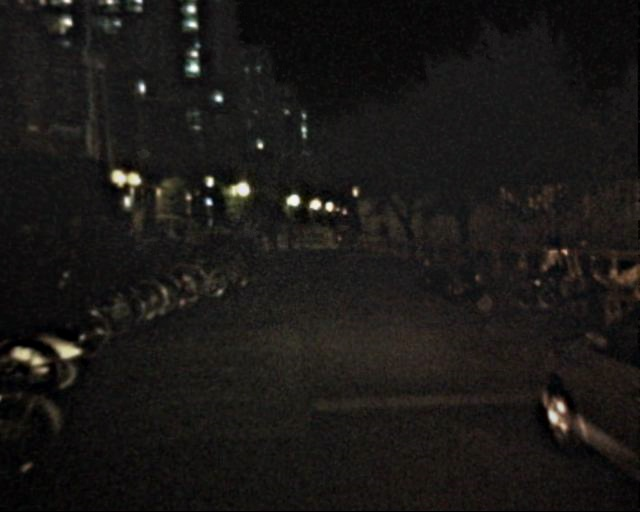person: (224, 214, 264, 245), (277, 216, 295, 261), (153, 219, 171, 262), (125, 224, 142, 266), (262, 222, 278, 261), (377, 222, 393, 261), (170, 229, 184, 264)
